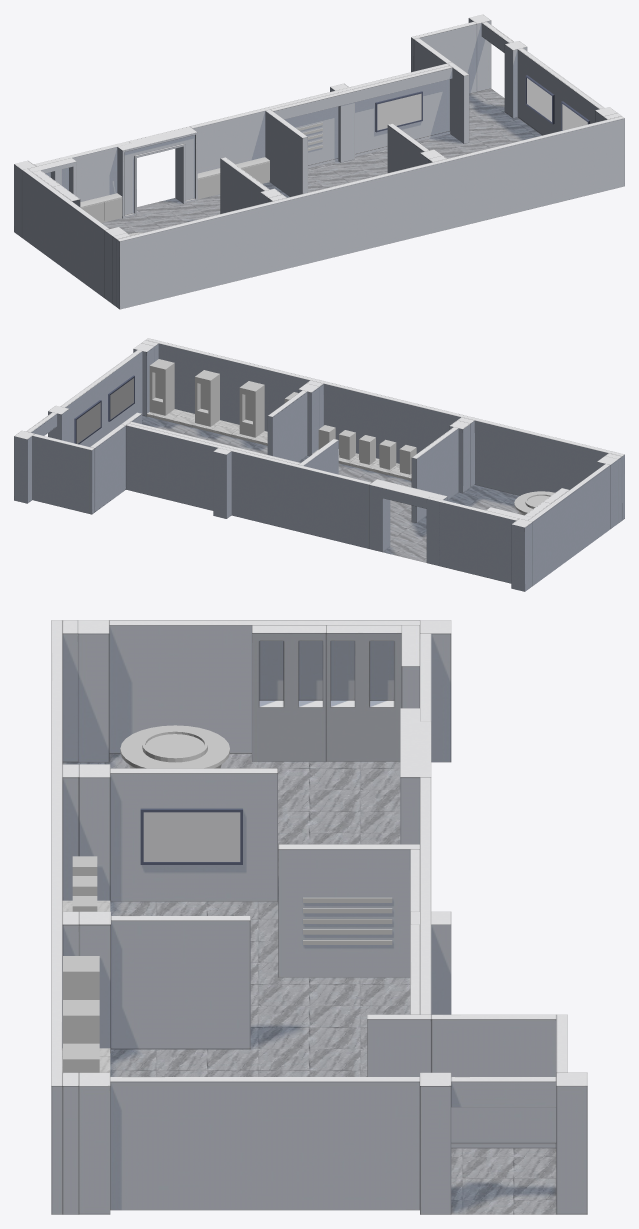
File: room.glb
3 views of the same model, one above another, from view 1: azimuth 30°, elevation 25°; view 2: azimuth 150°, elevation 25°; view 3: azimuth 270°, elevation 25° (orthographic). The views are drawn at different scales.
Parts seen in each view (by area): view 1: Rectangle011, dimian, Rectangle035, Rectangle054, Rectangle055; view 2: Rectangle011, dimian, Rectangle030, Rectangle035, Rectangle029, Rectangle032, Rectangle031, Circle001, Rectangle049, Rectangle047, Rectangle048, Rectangle050; view 3: Rectangle011, dimian, Rectangle053, Circle001, Rectangle032, Rectangle033, Rectangle031.
Part boxes in pixels (x1,y1,x2,y2): Rectangle011: (14, 14, 624, 309); dimian: (102, 88, 541, 233); Rectangle035: (375, 75, 589, 132); Rectangle054: (197, 157, 269, 199); Rectangle055: (80, 193, 122, 222); Rectangle011: (14, 338, 624, 591); dimian: (142, 415, 519, 562); Rectangle030: (147, 409, 411, 480); Rectangle035: (74, 375, 134, 444); Rectangle029: (149, 359, 174, 415); Rectangle032: (239, 381, 264, 437); Rectangle031: (195, 370, 219, 426); Circle001: (514, 491, 554, 515); Rectangle049: (379, 439, 396, 469); Rectangle047: (339, 430, 355, 459); Rectangle048: (359, 435, 375, 464); Rectangle050: (399, 445, 416, 474); Rectangle011: (51, 620, 587, 1214); dimian: (62, 753, 556, 1214); Rectangle053: (140, 808, 242, 864); Circle001: (120, 725, 229, 768); Rectangle032: (63, 1000, 99, 1043); Rectangle033: (63, 956, 99, 999); Rectangle031: (63, 1043, 99, 1072).
Size of the model in its own units: 19.42 by 2.5 by 9.45.
6 materials, 3 textured.
